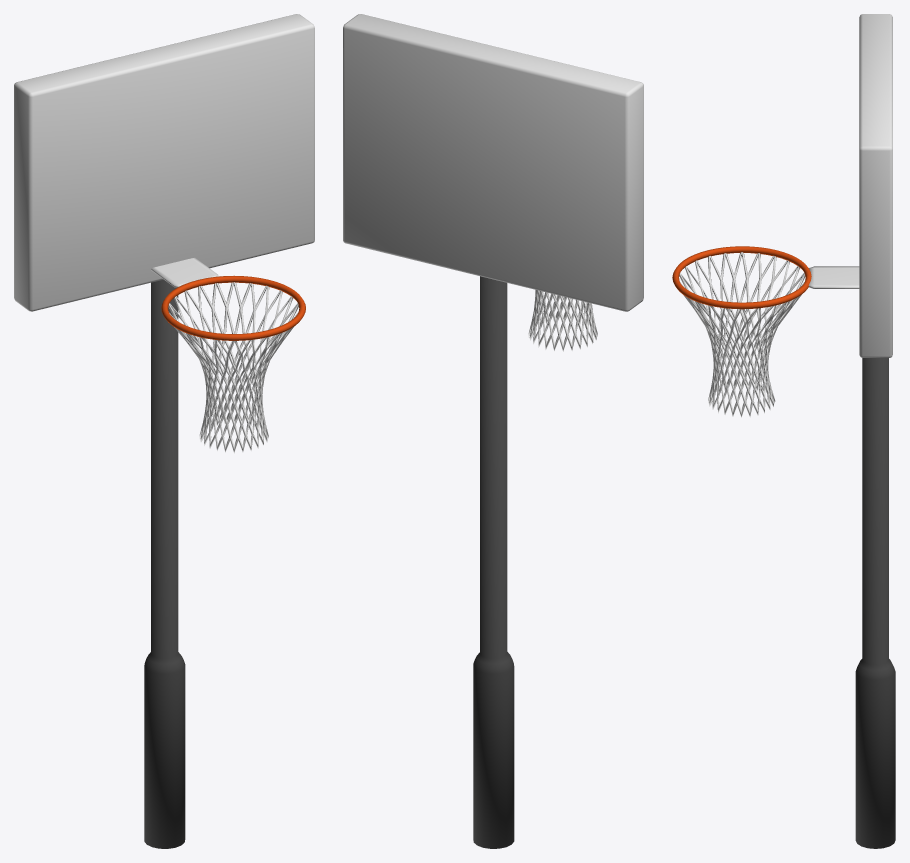
3 renders of one model, left to right at view 1: azimuth 30°, elevation 25°; view 2: azimuth 150°, elevation 25°; view 3: azimuth 270°, elevation 25°, orthographic. The views are drawn at different scales.
Visible parts, largest first — view 1: hoop_metal.004, hoop_net.004; view 2: hoop_metal.004, hoop_net.004; view 3: hoop_metal.004, hoop_net.004.
Part boxes in pixels (x1=…): hoop_metal.004: x1=14, y1=14, x2=314, y2=848; hoop_net.004: x1=168, y1=282, x2=298, y2=453; hoop_metal.004: x1=343, y1=14, x2=643, y2=848; hoop_net.004: x1=528, y1=290, x2=597, y2=351; hoop_metal.004: x1=672, y1=14, x2=895, y2=848; hoop_net.004: x1=679, y1=252, x2=805, y2=417.
Bounding box in the file's own units: 4.8 × 12.59 × 3.35.
